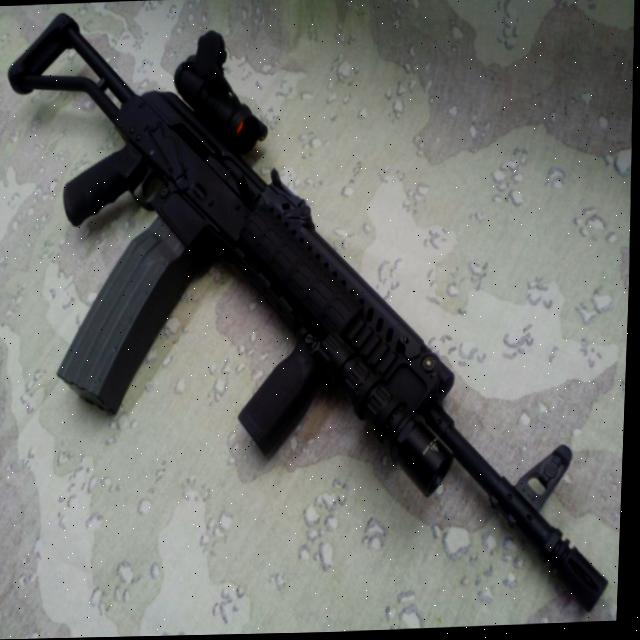firearm: (0, 0, 632, 640)
